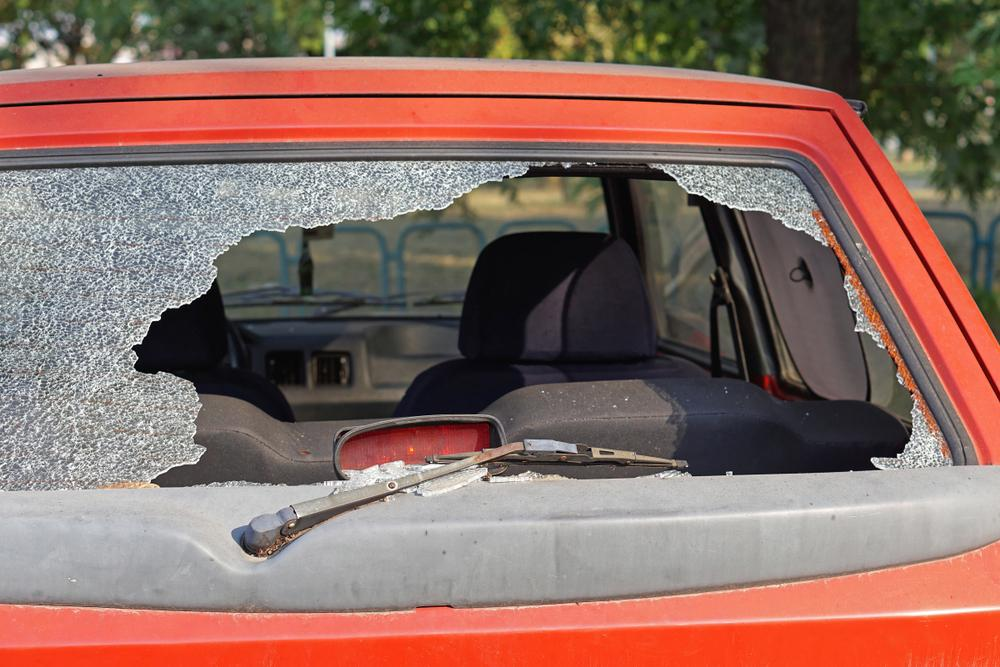glass shatter: (0, 158, 953, 491)
